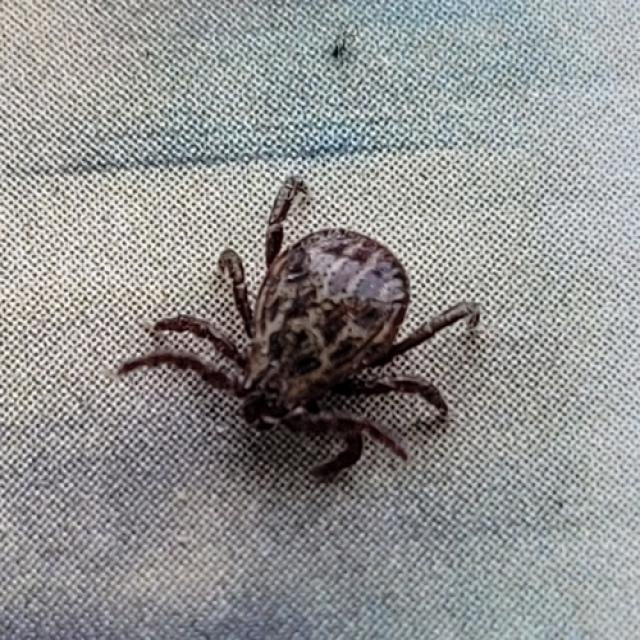Dermacentor Reticulatus-M: (116, 178, 480, 479)
